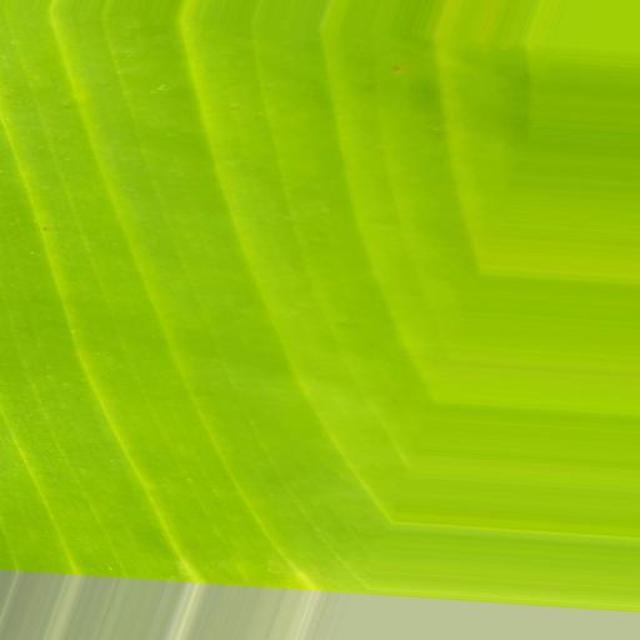Black_leaf_spot: (0, 0, 531, 596)
